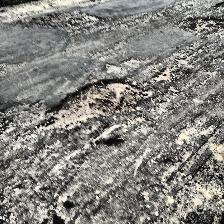pothole: (39, 77, 147, 131), (180, 16, 224, 32), (66, 13, 102, 25)
